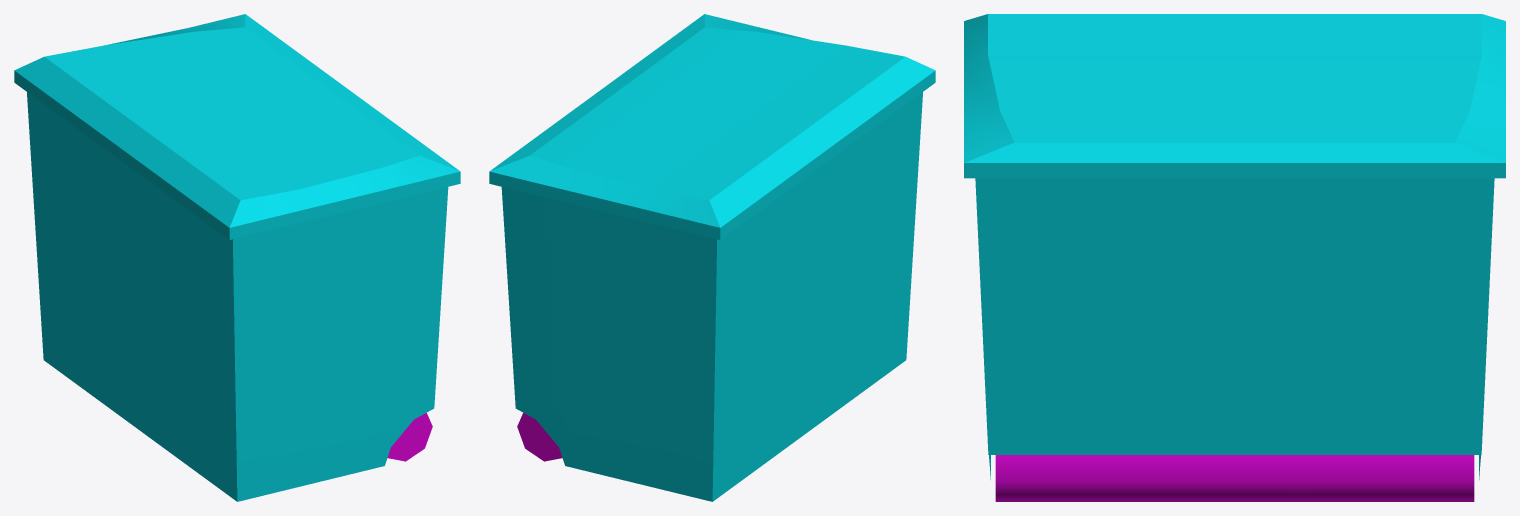
The model's file is Cassonetto_largo.fbx.
3 views of the same model, side by side, from view 1: azimuth 30°, elevation 25°; view 2: azimuth 150°, elevation 25°; view 3: azimuth 270°, elevation 25° (orthographic). The views are drawn at different scales.
Visible parts, largest first — view 1: cassonetto_largo; view 2: cassonetto_largo; view 3: cassonetto_largo.
Boxes of the visible parts, left/top/right/bottom form: cassonetto_largo: left=14, top=14, right=460, bottom=501; cassonetto_largo: left=489, top=14, right=935, bottom=501; cassonetto_largo: left=964, top=14, right=1505, bottom=501.
Bounding box in the file's own units: 61.08 × 76.9 × 98.51.
